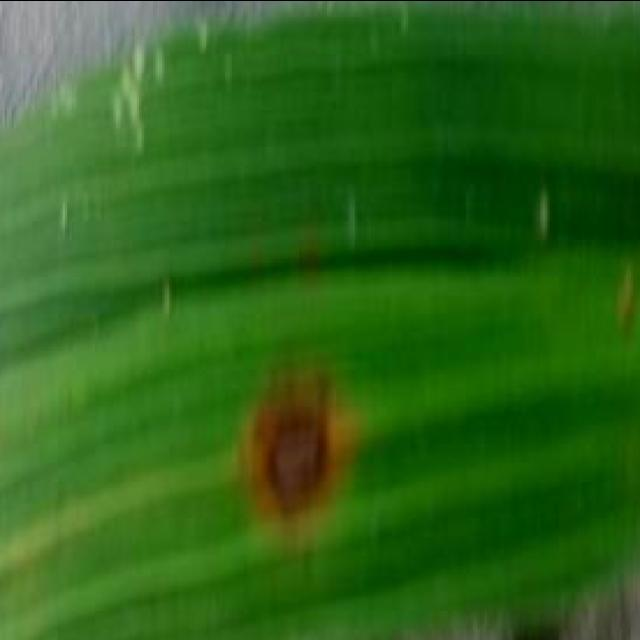Brown_Spot: (230, 352, 362, 536)
